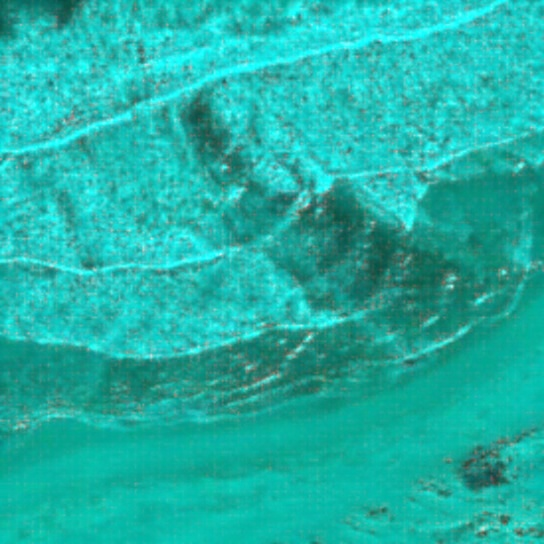rip_current: (152, 58, 475, 324)
